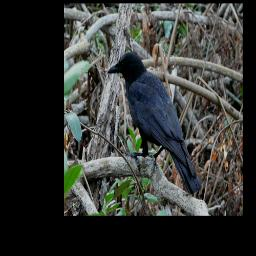Crow: (107, 51, 202, 199)
